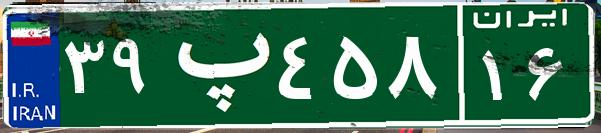1: (475, 38, 525, 113)
3: (57, 26, 110, 107)
4: (273, 28, 330, 110)
5: (330, 28, 385, 110)
6: (525, 38, 570, 115)
8: (385, 28, 445, 110)
9: (110, 28, 158, 105)
پ: (158, 15, 273, 115)
